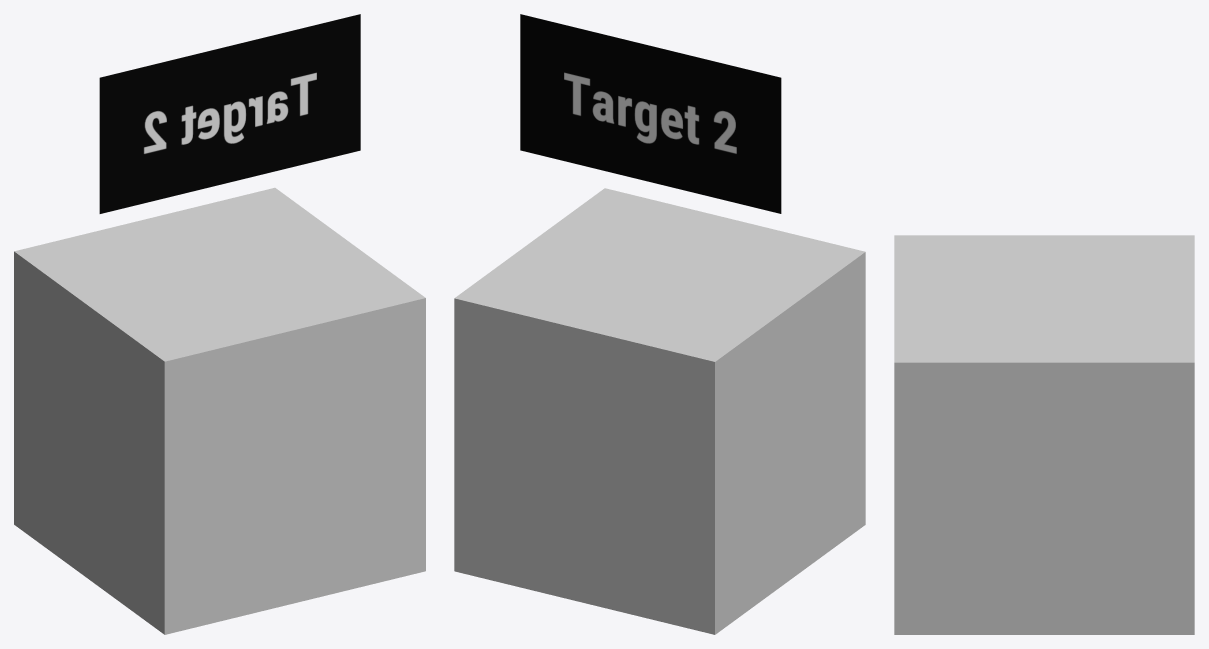
File: target_2.gltf
3 views of the same model, side by side, from view 1: azimuth 30°, elevation 25°; view 2: azimuth 150°, elevation 25°; view 3: azimuth 270°, elevation 25° (orthographic).
Visible parts, largest first — view 1: Target 2, Canvas (2); view 2: Target 2, Canvas (2); view 3: Target 2.
Part boxes in pixels (x1,y1,x2,y2): Target 2: [14, 187, 425, 634]; Canvas (2): [99, 14, 360, 213]; Target 2: [454, 188, 865, 634]; Canvas (2): [520, 14, 781, 213]; Target 2: [894, 235, 1194, 634].
Size of the model in its own units: 1.04 by 1.83 by 1.
2 materials, 1 textured.
